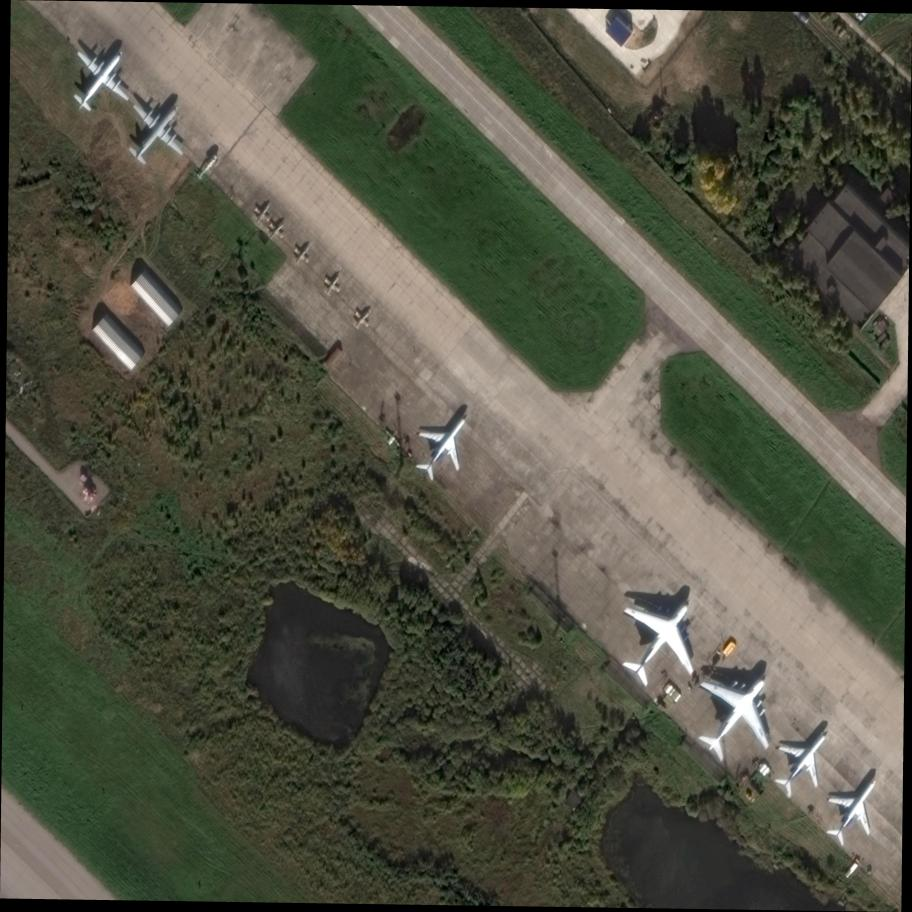plane: (667, 645, 803, 781), (593, 570, 727, 704), (47, 27, 151, 130), (105, 82, 206, 182), (756, 709, 851, 809), (811, 756, 903, 857), (400, 399, 490, 492), (191, 149, 223, 183), (346, 303, 378, 335), (286, 241, 317, 271), (248, 197, 278, 228), (319, 269, 347, 300), (262, 216, 290, 245)
